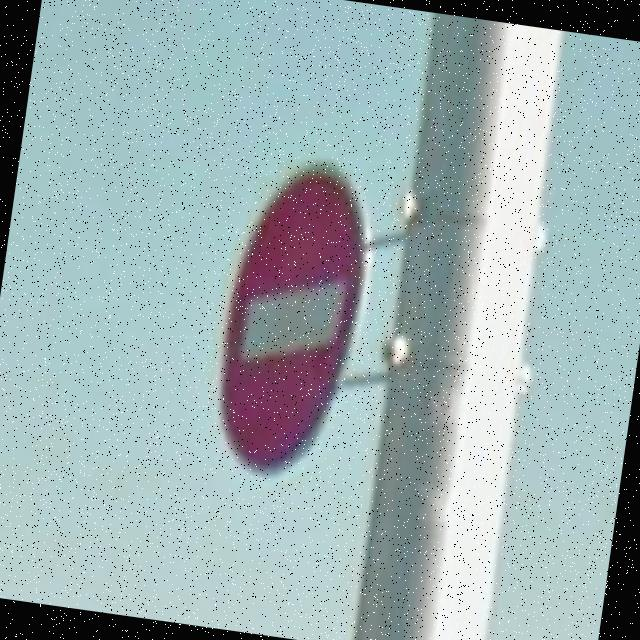Zakaz wjazdu: (200, 148, 384, 492)
